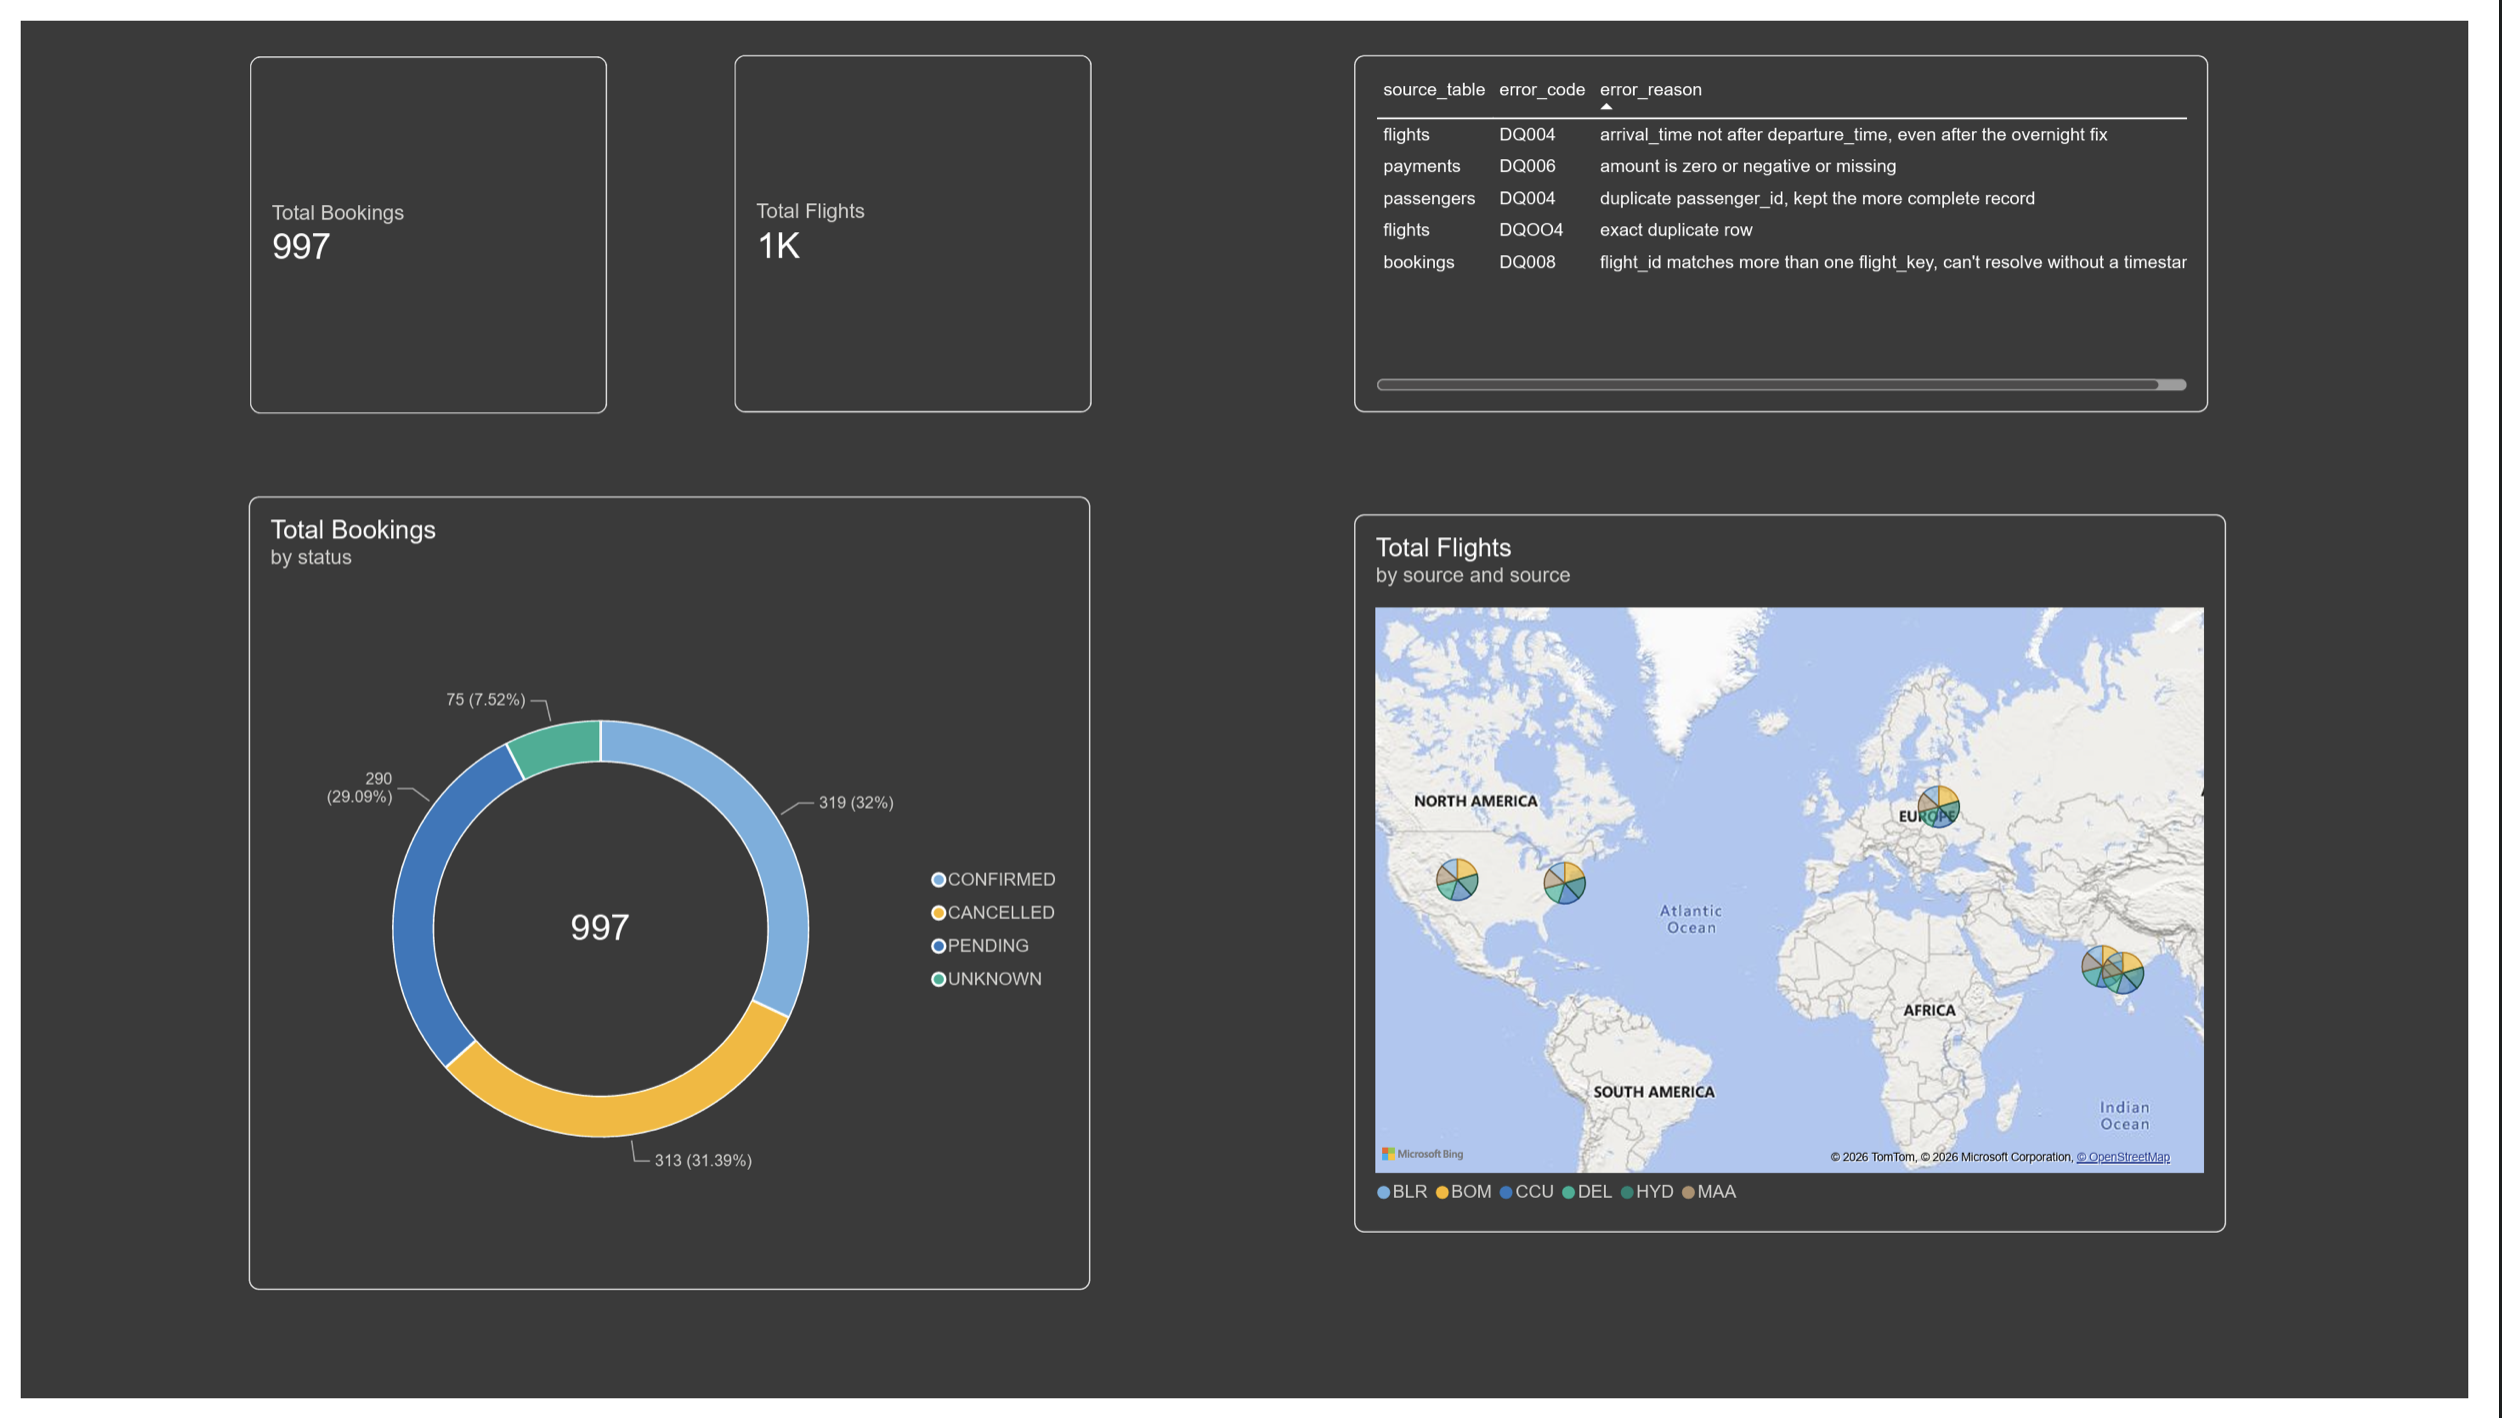

Layout of this report page (visuals, bound fields, positions):
{"tool":"powerbi","page":{"name":"Data Quality","canvas":[1920,1080],"ordinal":4},"visuals":[{"type":"cardVisual","fields":{"Data":["_Measures.Total Flights"]},"box":[559.9,26.8,280,280],"z":0},{"type":"cardVisual","fields":{"Data":["_Measures.Total Bookings"]},"box":[180,27.5,280,280],"z":1000},{"type":"tableEx","fields":{"Values":["quarantine_table.source_table","quarantine_table.error_code","quarantine_table.error_reason"]},"box":[1045.6,26.8,670,280],"z":2000},{"type":"donutChart","fields":{"Category":["fact_bookings.status"],"Y":["_Measures.Total Bookings"]},"box":[179.1,372.6,660,622.5],"z":3000},{"type":"map","fields":{"Series":["dim_route.source"],"Size":["_Measures.Total Flights"],"Category":["quarantine_table.source"]},"box":[1046,387.3,684.1,562.8],"z":3001}]}

Visuals, with their boxes in screenshot pixels (x1, y1, x2, y2), scaled from the page's 1920x1080 canvas onto the 2502x1418 screenshot:
cardVisual - _Measures.Total Flights: bbox=[730, 35, 1094, 403]
cardVisual - _Measures.Total Bookings: bbox=[235, 36, 599, 404]
tableEx - quarantine_table.source_table x quarantine_table.error_code: bbox=[1363, 35, 2236, 403]
donutChart - fact_bookings.status x _Measures.Total Bookings: bbox=[233, 489, 1093, 1307]
map - dim_route.source x _Measures.Total Flights: bbox=[1363, 509, 2255, 1247]
